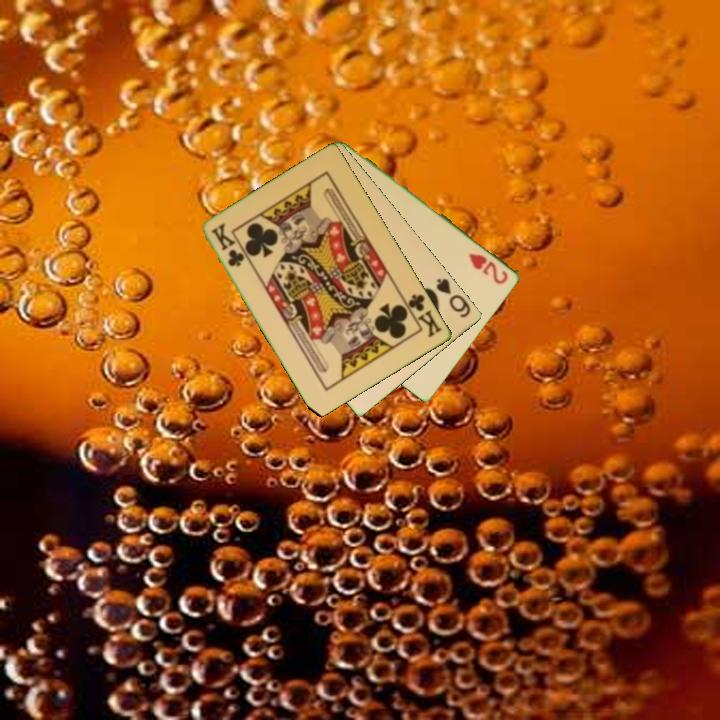2h: (465, 249, 511, 287)
6s: (433, 275, 474, 321)
Kc: (400, 290, 445, 340), (208, 220, 248, 270)
